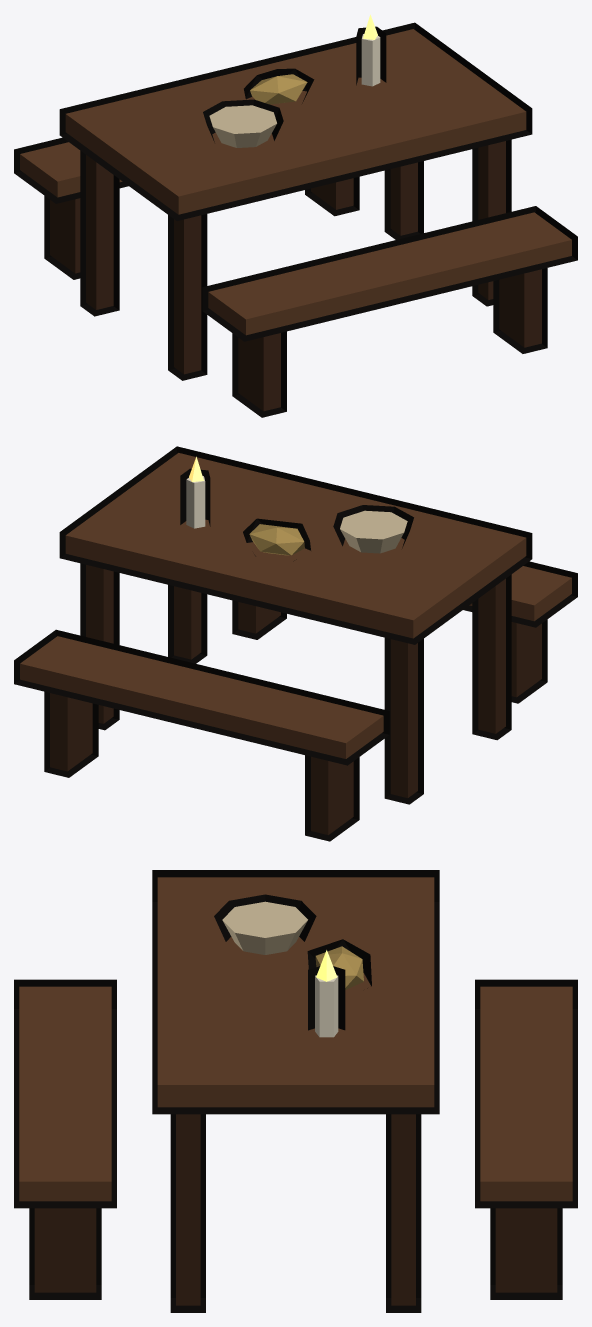
The model's file is table.glb.
The picture shows the model from 3 angles, top to bottom: view 1: azimuth 30°, elevation 25°; view 2: azimuth 150°, elevation 25°; view 3: azimuth 270°, elevation 25°; orthographic projection. The views are drawn at different scales.
Visible parts, largest first — view 1: Prop_hearth_table; view 2: Prop_hearth_table; view 3: Prop_hearth_table.
Part boxes in pixels (<box>): Prop_hearth_table: <box>14,14,577,417</box>; Prop_hearth_table: <box>14,446,577,841</box>; Prop_hearth_table: <box>14,870,577,1312</box>.
Bounding box in the file's own units: 1.63 × 1.14 × 1.83.
